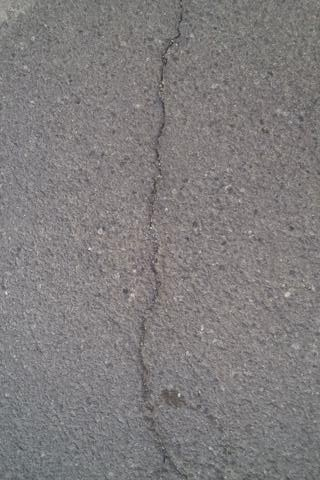A: (135, 6, 184, 419)
